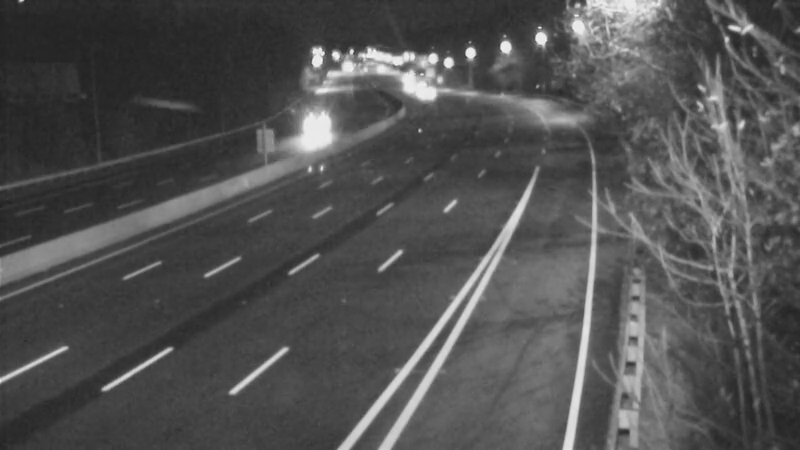vehicle: (384, 60, 434, 110), (396, 61, 446, 111), (400, 70, 450, 120), (292, 102, 342, 152)
